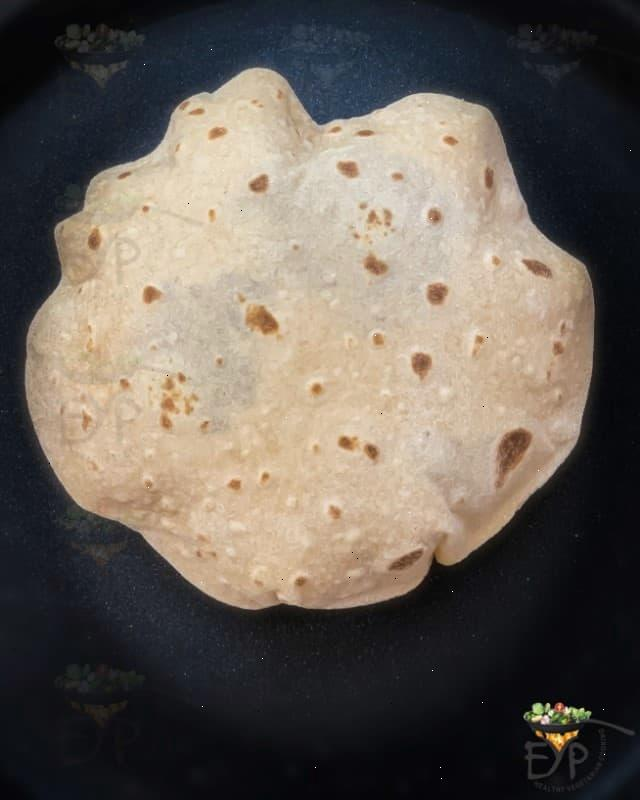roti phulka: (24, 69, 604, 616)
